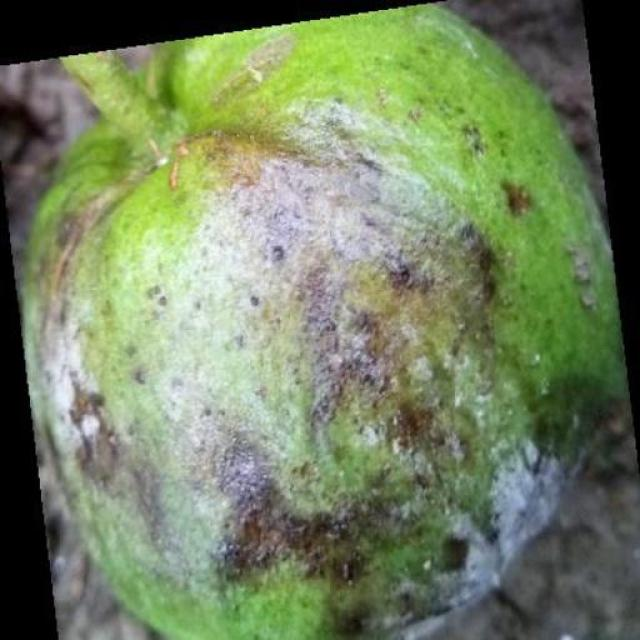Phytopthora: (24, 6, 624, 640)
